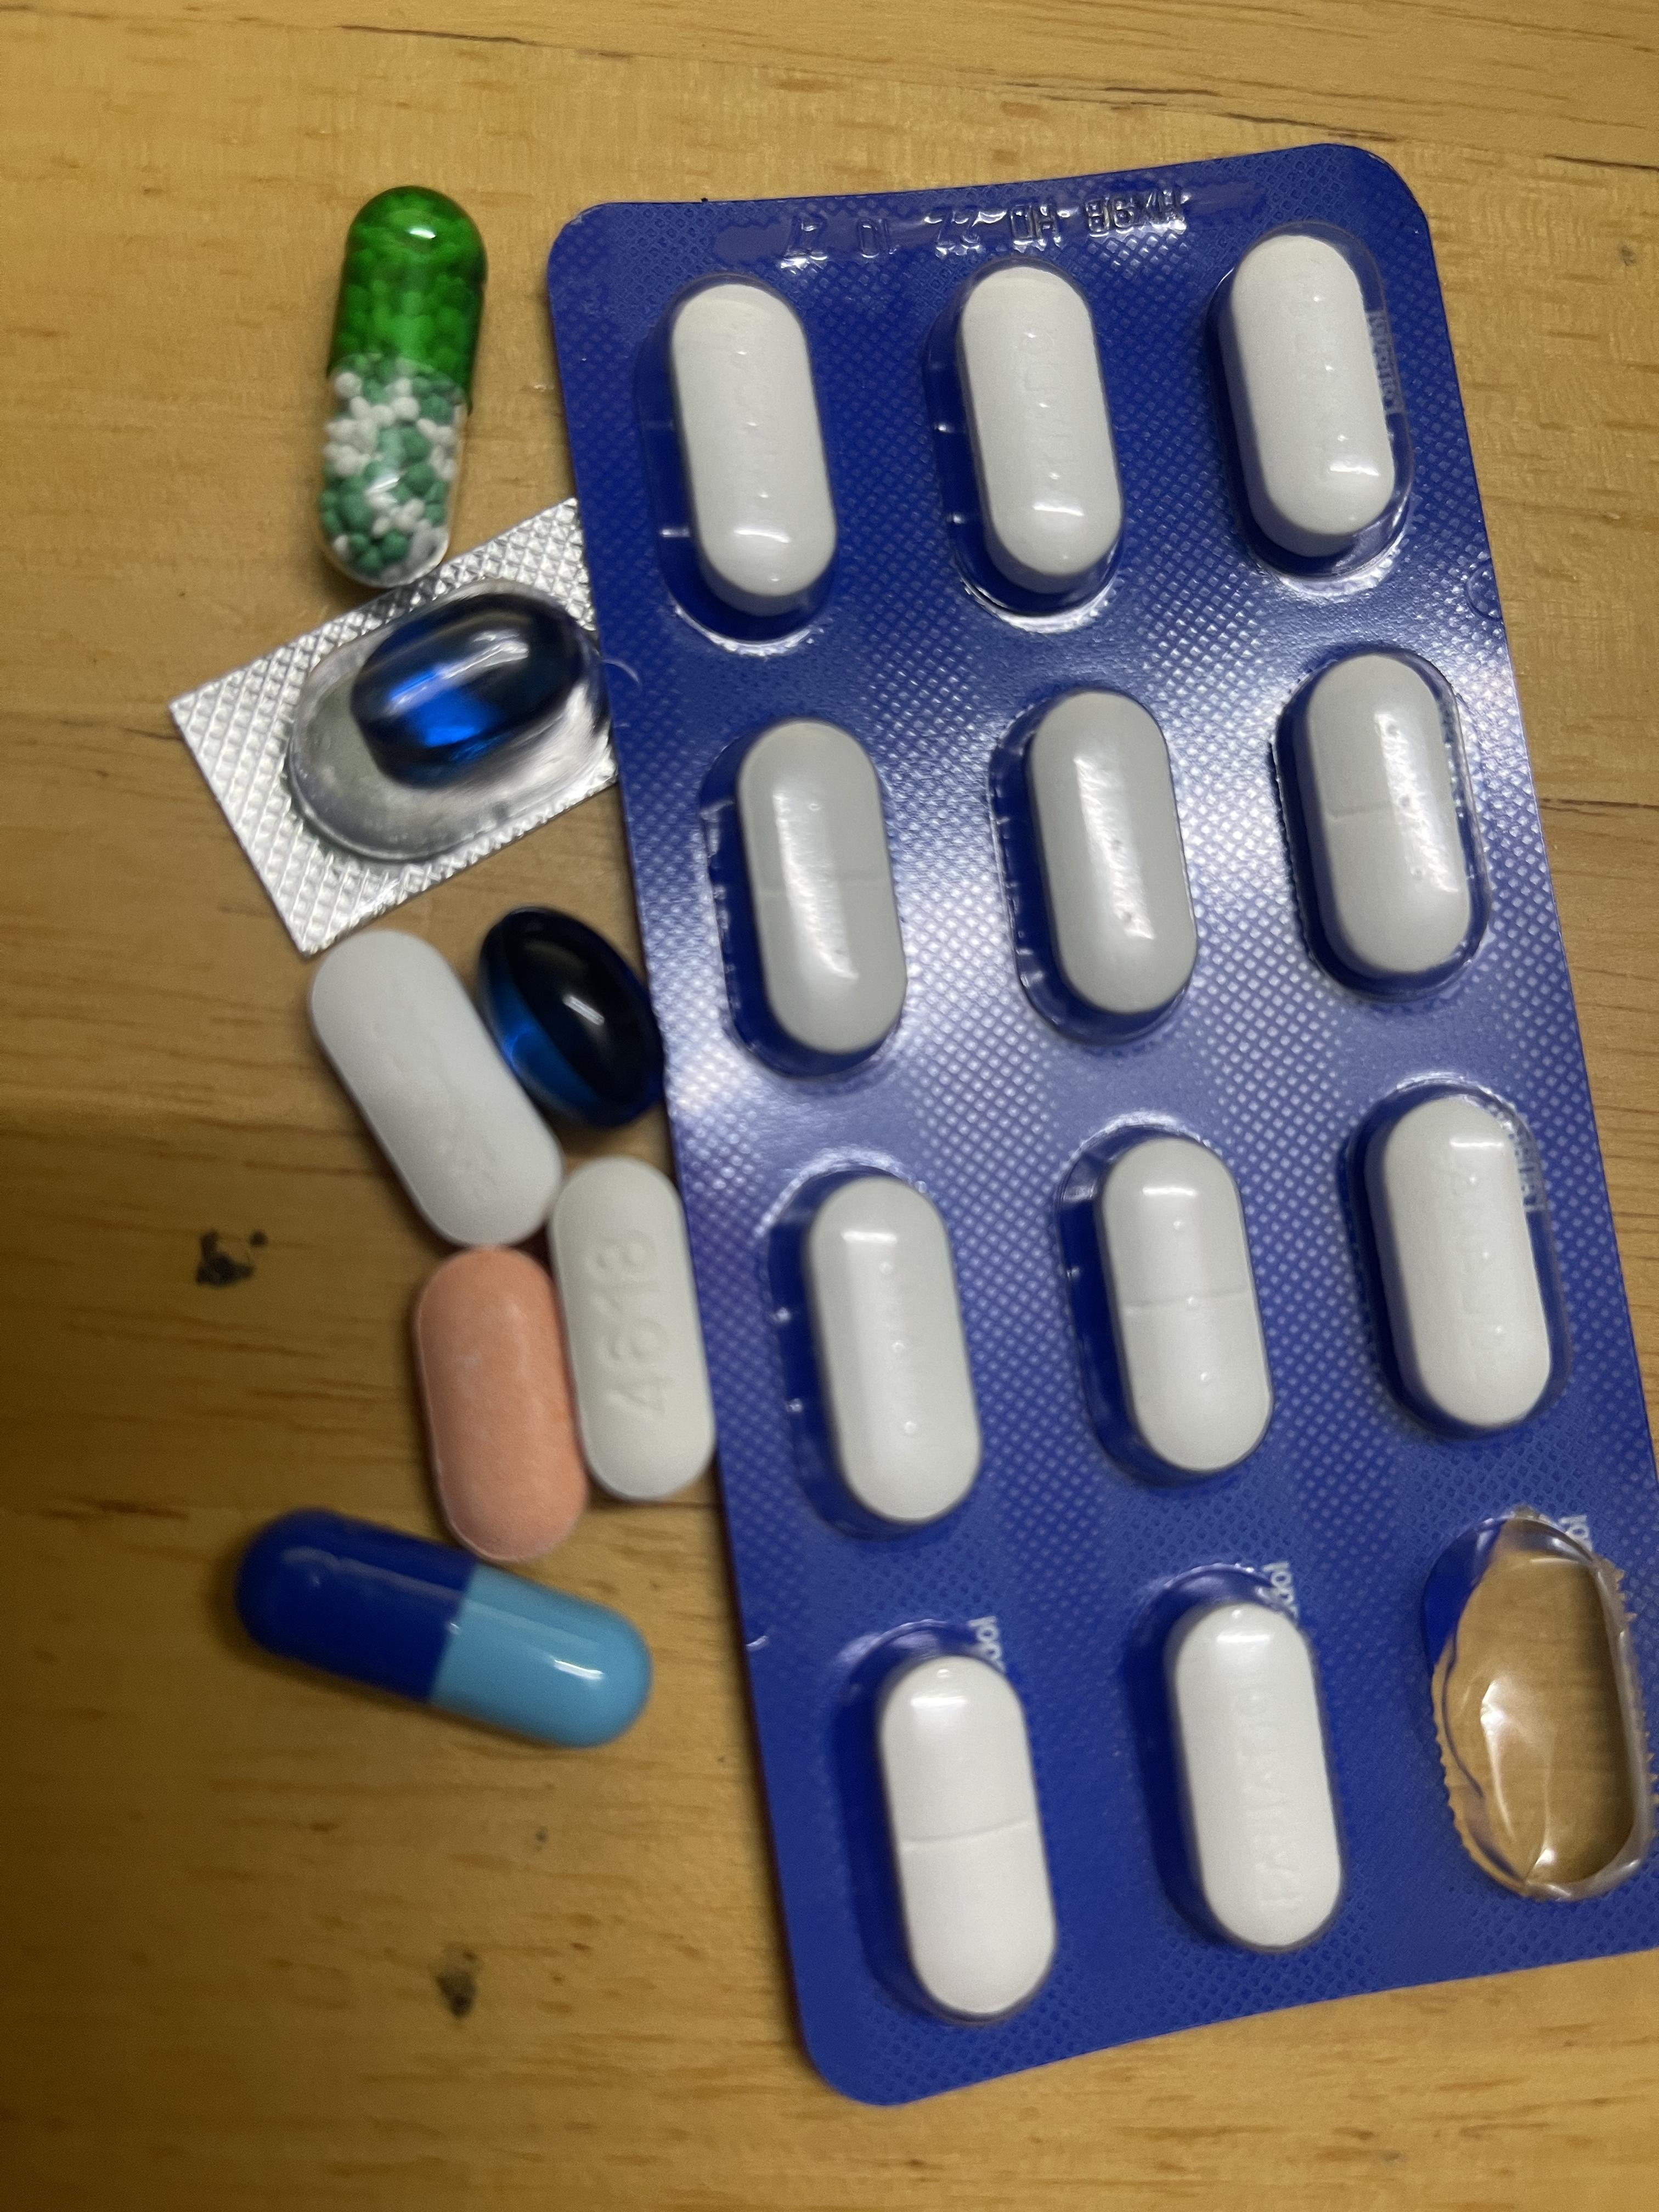Lincomyxin_500mg: (345, 590, 589, 787), (477, 907, 671, 1125)
Loratadine_10mg: (416, 1247, 586, 1545)
Paracetamol_350mg: (1145, 1573, 1351, 1963), (1277, 644, 1493, 1012), (308, 934, 558, 1240), (1068, 1127, 1276, 1487), (706, 716, 911, 1078), (870, 1641, 1061, 2026), (1211, 221, 1406, 578), (943, 254, 1127, 611), (1366, 1097, 1556, 1437), (803, 1177, 986, 1529), (660, 275, 840, 624), (1019, 686, 1199, 1035)
Paracetamol_500mg: (558, 1172, 711, 1500)
Paracetamol_650mg: (317, 190, 484, 575)
pill: (234, 1512, 647, 1747)
